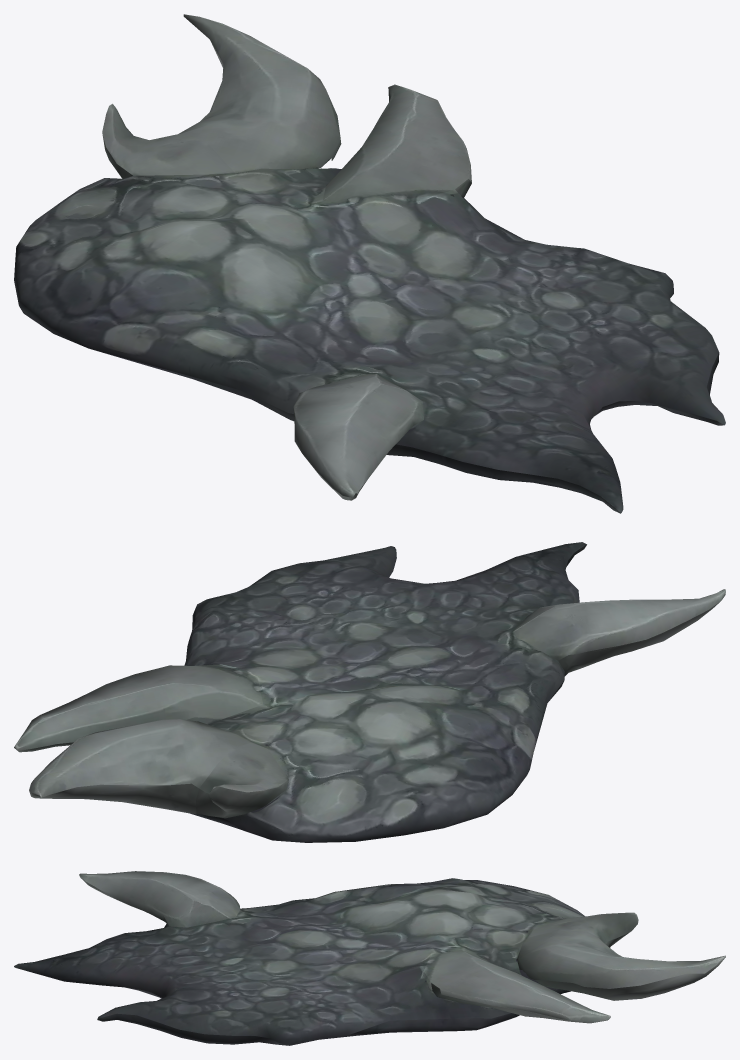
3 renders of one model, top to bottom at view 1: azimuth 30°, elevation 25°; view 2: azimuth 150°, elevation 25°; view 3: azimuth 270°, elevation 25°, orthographic. The views are drawn at different scales.
Parts seen in each view (by area): view 1: SM_Black_Dragon_Hide_01_LOD0; view 2: SM_Black_Dragon_Hide_01_LOD0; view 3: SM_Black_Dragon_Hide_01_LOD0.
Boxes of the visible parts, left/top/right/bottom form: SM_Black_Dragon_Hide_01_LOD0: left=14, top=14, right=725, bottom=513; SM_Black_Dragon_Hide_01_LOD0: left=14, top=542, right=725, bottom=842; SM_Black_Dragon_Hide_01_LOD0: left=14, top=871, right=725, bottom=1045.
Size of the model in its own units: 0.4668 by 0.0753 by 0.8784.
Materials: 1 (1 with a texture image).
